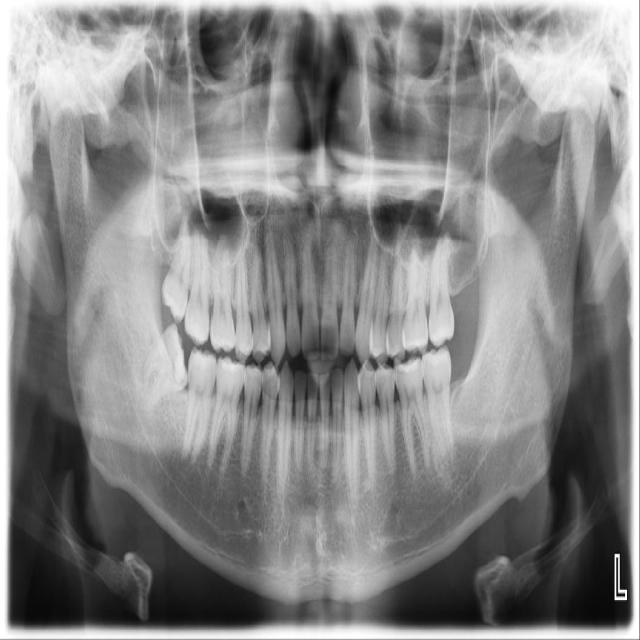impacted tooth: (140, 322, 192, 415)
